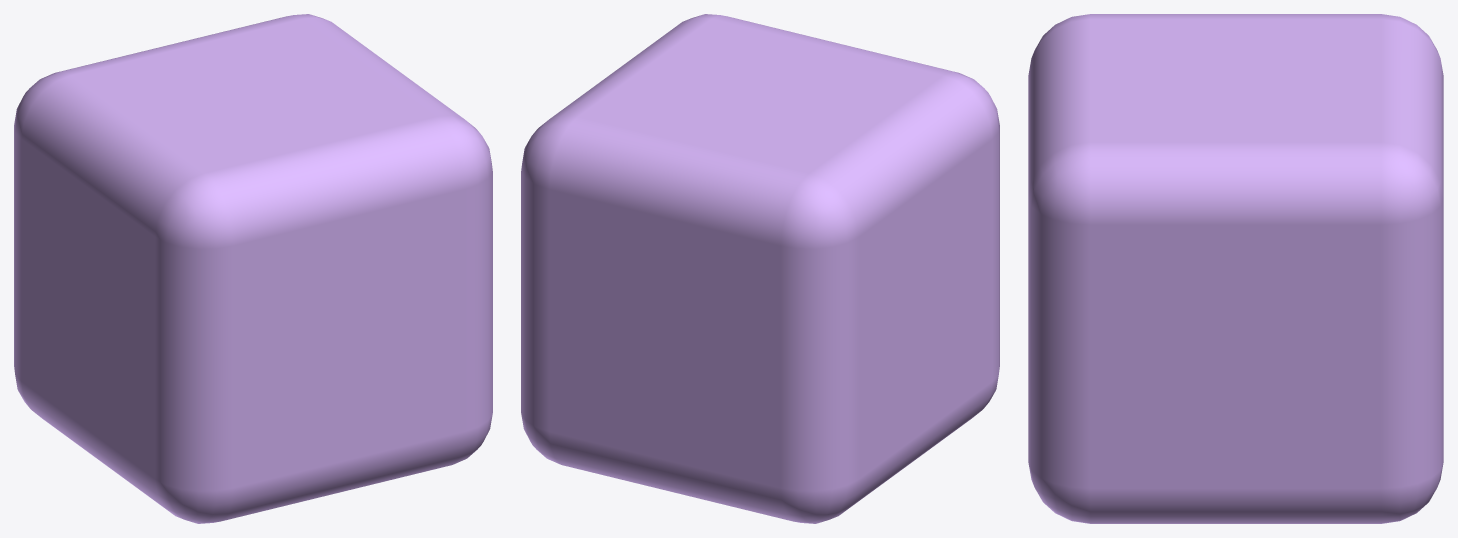
Rendered from purple_cube.fbx.
The picture shows the model from 3 angles, left to right: view 1: azimuth 30°, elevation 25°; view 2: azimuth 150°, elevation 25°; view 3: azimuth 270°, elevation 25°; orthographic projection. The views are drawn at different scales.
Parts seen in each view (by area): view 1: 큐브; view 2: 큐브; view 3: 큐브.
Part boxes in pixels (x1,y1,x2,y2): 큐브: (14, 14, 492, 523); 큐브: (521, 14, 999, 523); 큐브: (1028, 14, 1443, 523).
Bounding box in the file's own units: 200 × 200 × 200.
